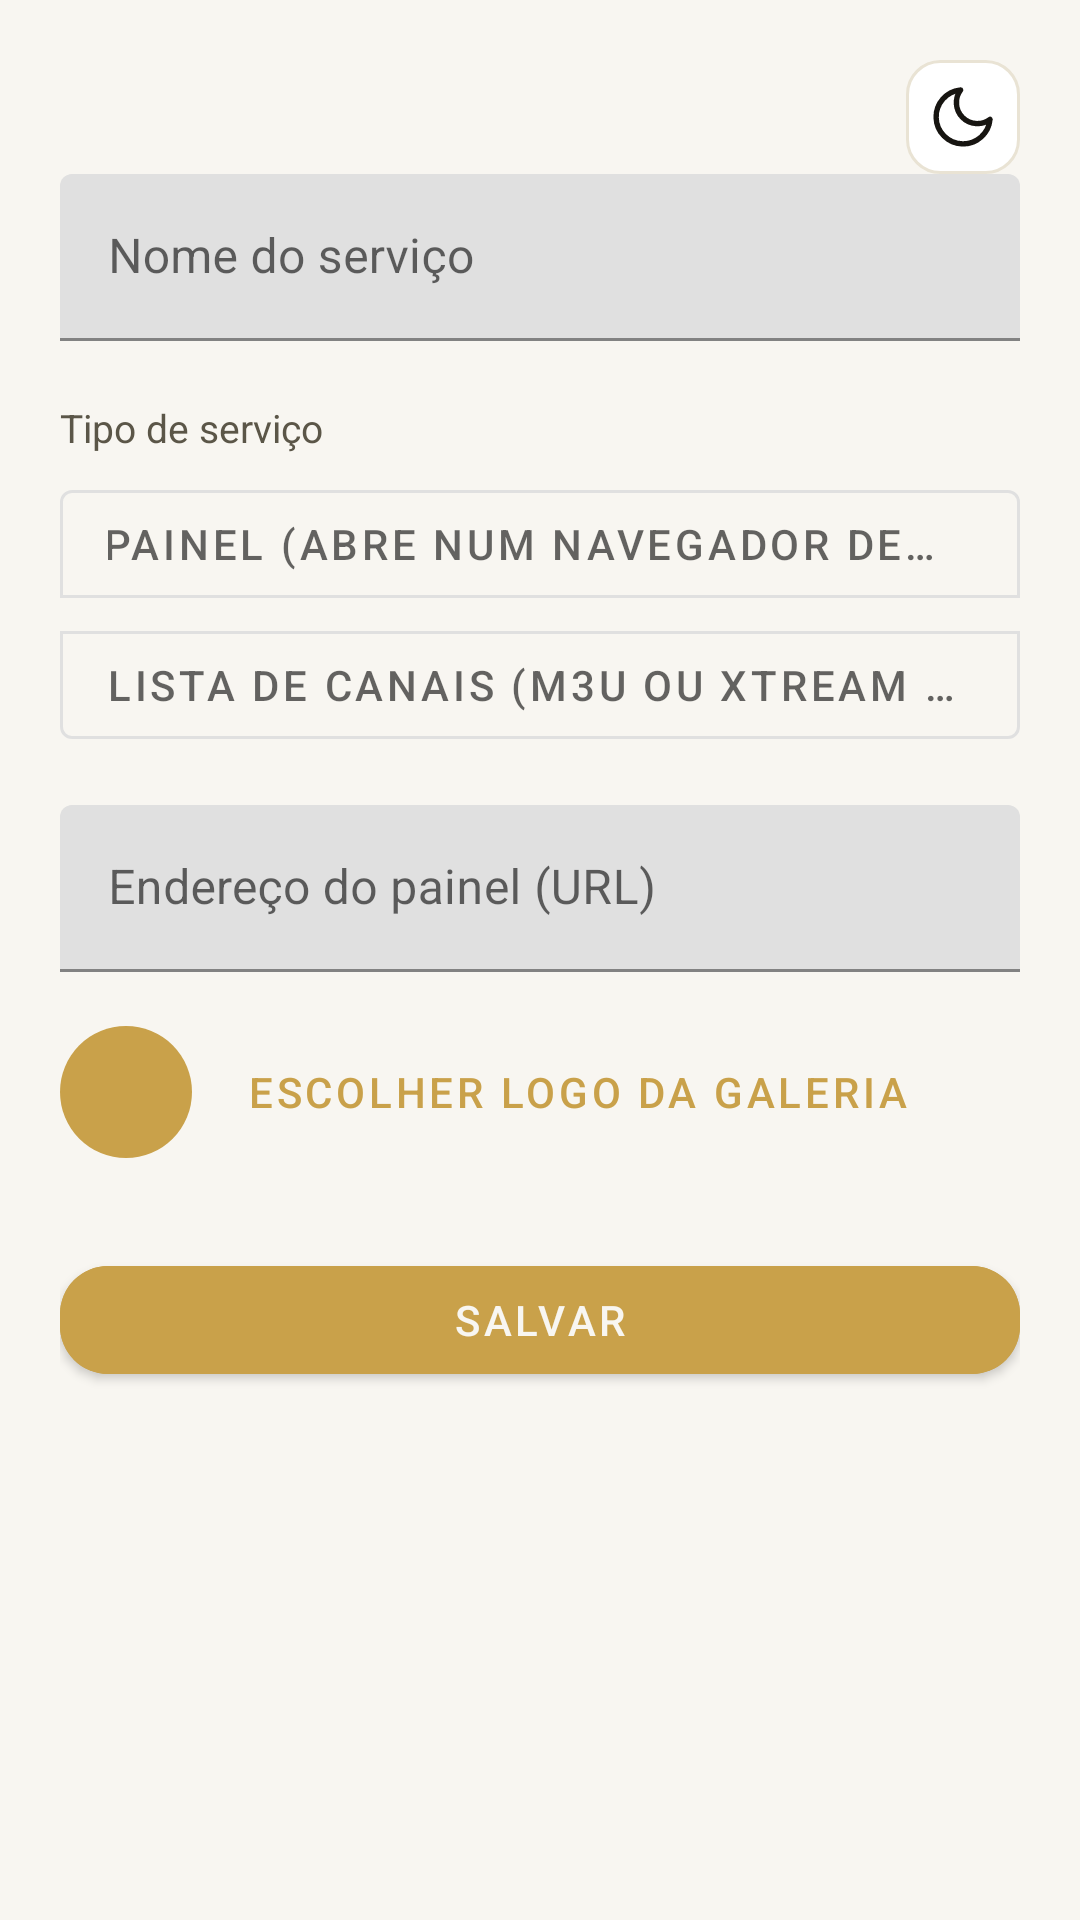

Named icons in this screenshot (1080x1920) and their bounding boxes, [x1, y1, x2, y2]:
Alternar tema claro/escuro: [906, 60, 1020, 174]
